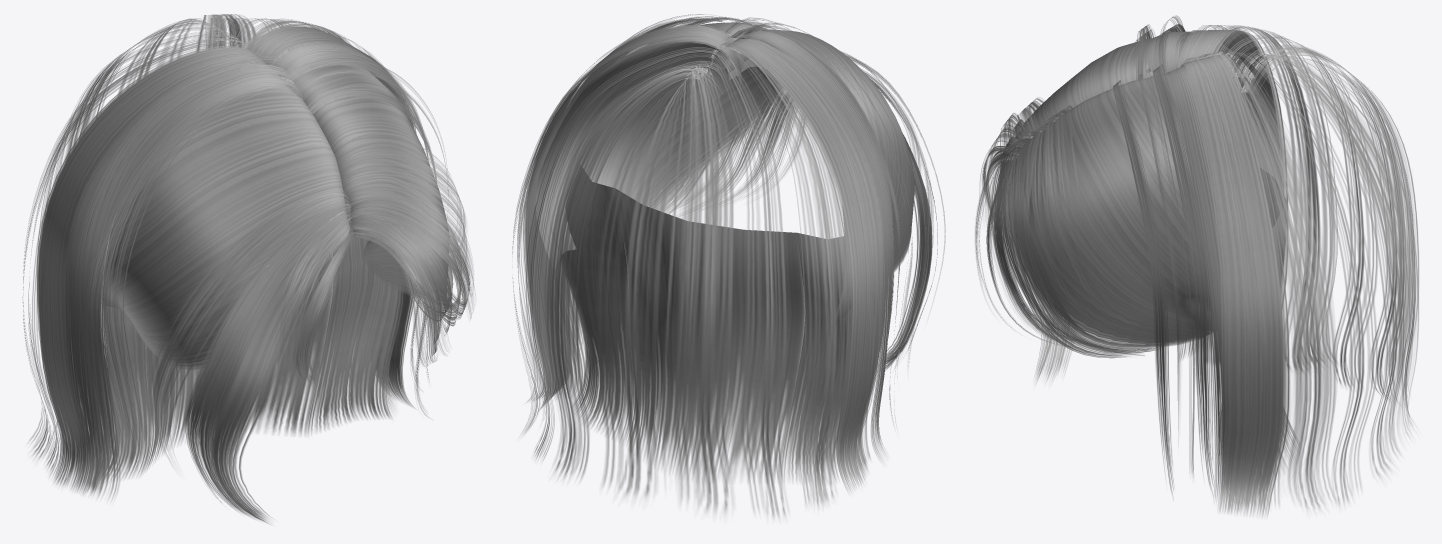
File: Hair1.glb
3 renders of one model, left to right at view 1: azimuth 30°, elevation 25°; view 2: azimuth 150°, elevation 25°; view 3: azimuth 270°, elevation 25°, orthographic. The views are drawn at different scales.
Visible parts, largest first — view 1: Object_9; view 2: Object_9; view 3: Object_9.
Boxes of the visible parts, x1,y1,x2,y2 form: Object_9: (22, 14, 475, 523); Object_9: (512, 14, 945, 519); Object_9: (975, 15, 1418, 518).
Bounding box in the file's own units: 0.5299 × 0.5992 × 0.581.
1 material, 1 textured.
